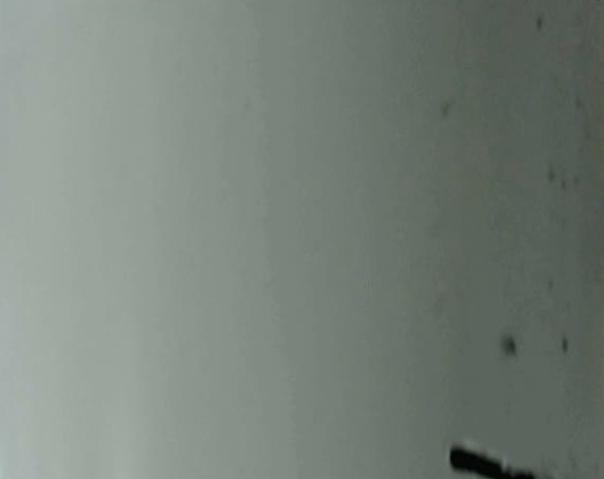fengxi: (440, 439, 561, 479)
